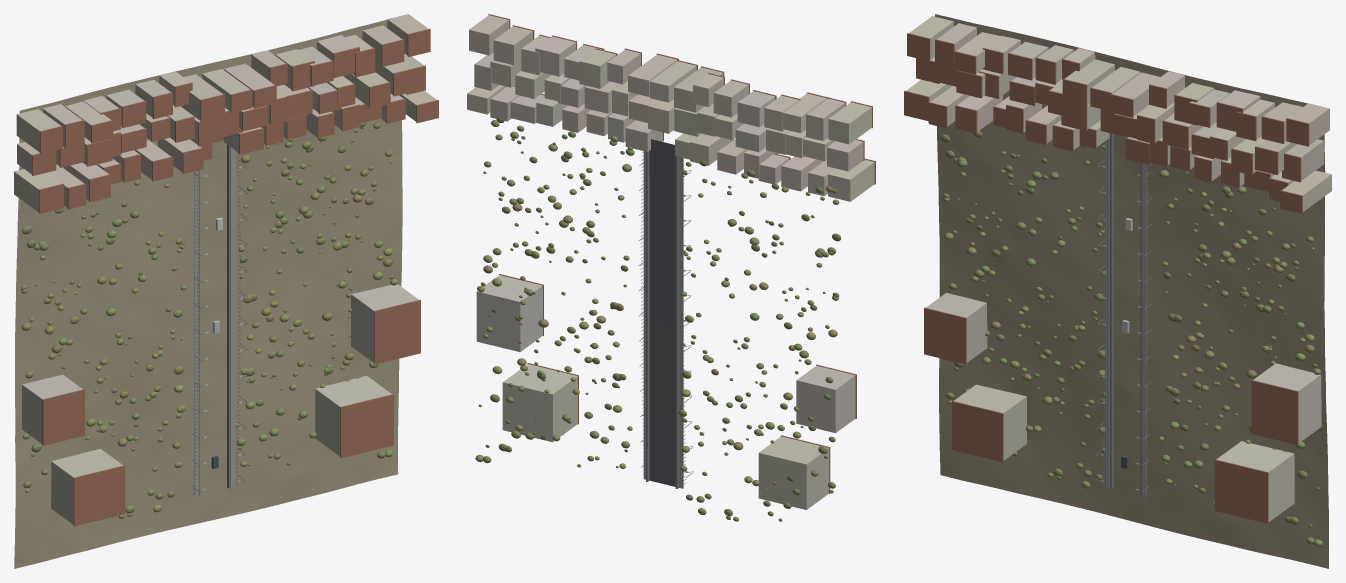
The model's file is gunduz_yerlesim_koprusu.glb.
3 renders of one model, left to right at view 1: azimuth 30°, elevation 25°; view 2: azimuth 150°, elevation 25°; view 3: azimuth 330°, elevation 25°, orthographic. The views are drawn at different scales.
Parts seen in each view (by area): view 1: Dry_ravine_terrain, Terracotta_roof_1, Terracotta_roof_0, Apartment_block_1, Terracotta_roof_3, Apartment_block_0, Apartment_block_3, Bridge_sidewalk_1, Terracotta_roof_2, Apartment_block_2, Bridge_sidewalk_-1, Bridge_girder_1 (+31 smaller); view 2: Bridge_asphalt_deck, Apartment_block_1, Apartment_block_0, Apartment_block_3, Apartment_block_2, Bridge_girder_-1, Bridge_sidewalk_-1, Apartment_block_37, Apartment_block_4, Bridge_girder_1, Apartment_block_50, Apartment_block_53 (+42 smaller); view 3: Dry_ravine_terrain, Terracotta_roof_1, Apartment_block_1, Terracotta_roof_3, Terracotta_roof_0, Apartment_block_3, Apartment_block_0, Terracotta_roof_2, Apartment_block_2, Bridge_sidewalk_-1, Bridge_sidewalk_1, Bridge_girder_-1 (+29 smaller).
Part boxes in pixels (x1,y1,x2,y2): Dry_ravine_terrain: (14,19,402,568); Terracotta_roof_1: (340,394,393,457); Terracotta_roof_0: (73,465,125,526); Apartment_block_1: (315,375,391,456); Terracotta_roof_3: (374,300,420,364); Apartment_block_0: (51,448,122,524); Apartment_block_3: (351,284,418,362); Bridge_sidewalk_1: (230,147,235,488); Terracotta_roof_2: (42,389,84,445); Apartment_block_2: (22,374,82,443); Bridge_sidewalk_-1: (194,170,198,497); Bridge_girder_1: (227,144,230,488); Bridge_asphalt_deck: (649,139,675,486); Apartment_block_1: (502,364,577,442); Apartment_block_0: (758,436,829,509); Apartment_block_3: (476,275,542,351); Apartment_block_2: (796,365,855,432); Bridge_girder_-1: (675,156,679,488); Bridge_sidewalk_-1: (679,157,683,488); Apartment_block_37: (828,102,871,144); Apartment_block_4: (828,159,874,201); Bridge_girder_1: (646,151,649,481); Apartment_block_50: (535,36,575,76); Apartment_block_53: (469,15,509,55); Dry_ravine_terrain: (935,14,1328,568); Terracotta_roof_1: (1214,459,1268,523); Apartment_block_1: (1216,441,1294,521); Terracotta_roof_3: (1251,380,1298,444); Terracotta_roof_0: (952,401,1003,462); Apartment_block_3: (1253,363,1321,443); Apartment_block_0: (954,384,1026,460); Terracotta_roof_2: (924,307,966,364); Apartment_block_2: (926,293,987,362); Bridge_sidewalk_-1: (1105,133,1109,488); Bridge_sidewalk_1: (1142,163,1146,497); Bridge_girder_-1: (1110,133,1113,488).
Size of the model in its own units: 175 by 195 by 29.3.
